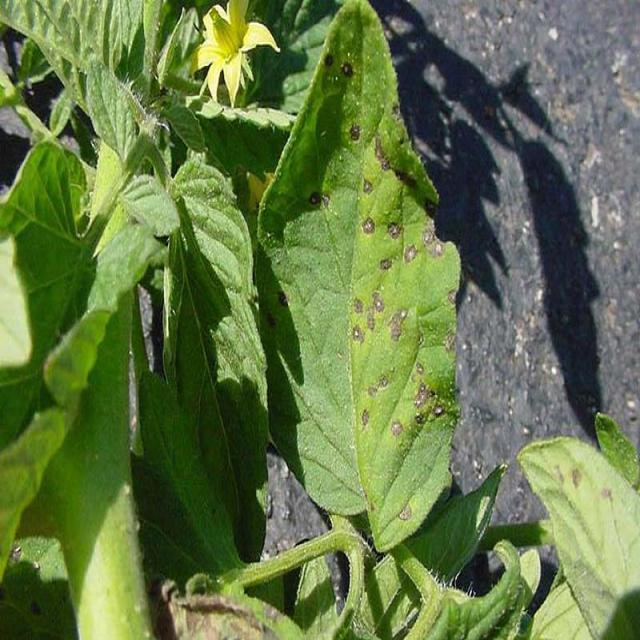Septoria: (315, 51, 450, 447)
